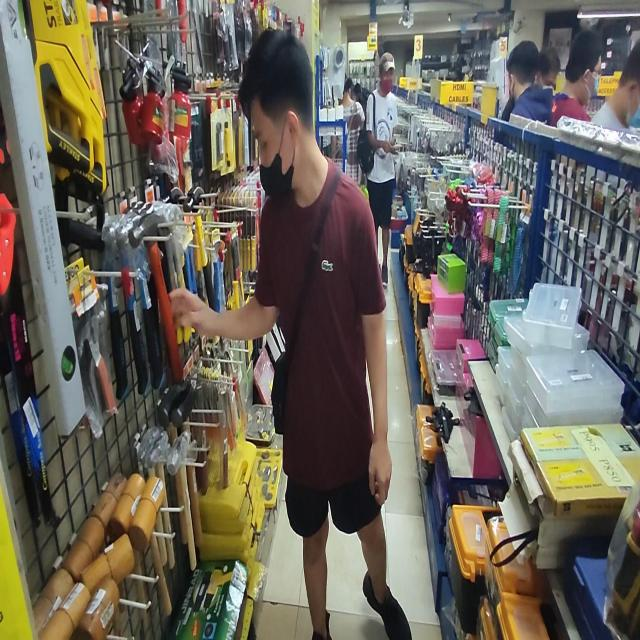hammer: (128, 213, 182, 384)
